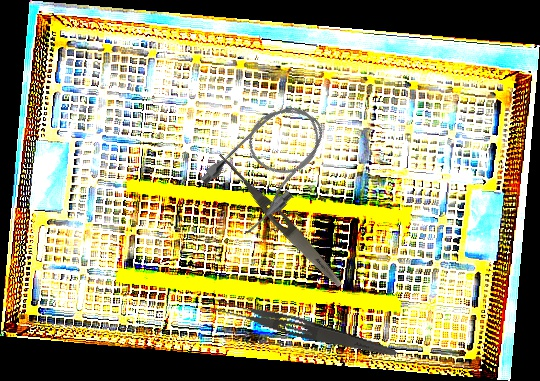Cannula: (192, 89, 344, 241)
Dressing Forceps: (212, 149, 347, 291), (208, 293, 401, 362)
